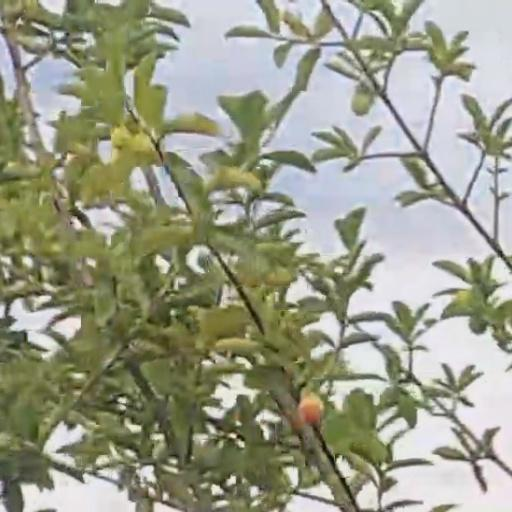acerola: (298, 393, 323, 423)
